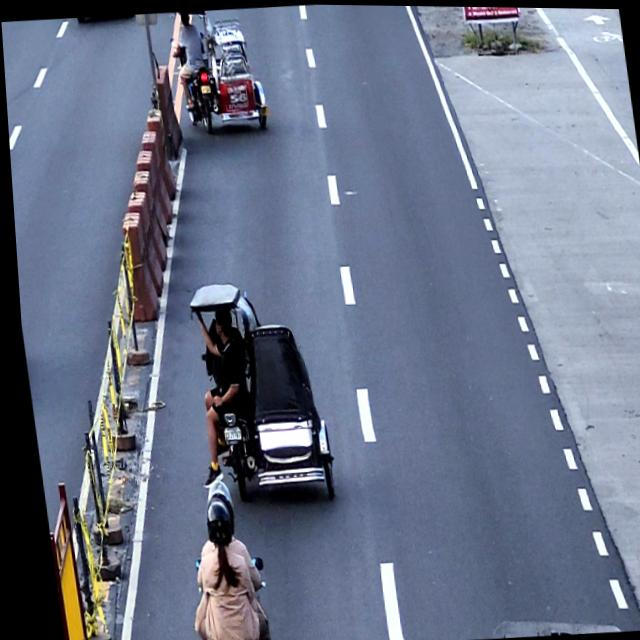License-Plate: (216, 424, 236, 441), (198, 83, 210, 94)
Motorcycle: (184, 552, 268, 640)
Tricycle: (179, 275, 333, 507), (164, 6, 269, 135)
